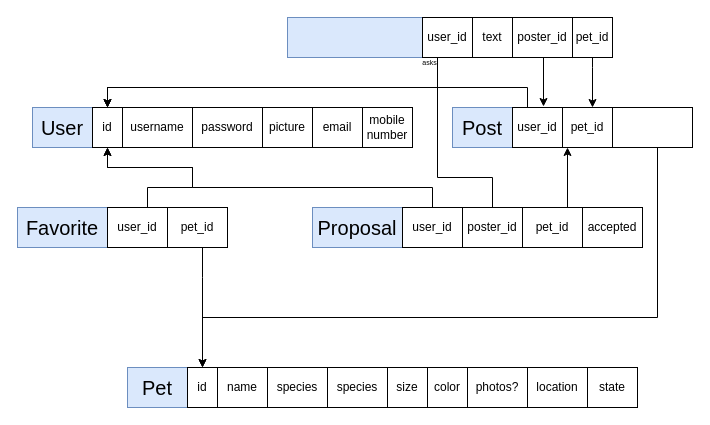
The diagram is 710 pixels wide and 425 high, and some of its shapes have lost their labels. Each missing label, with the centre of its shape:
Commentary: the point at 354,37
description: the point at 652,127
